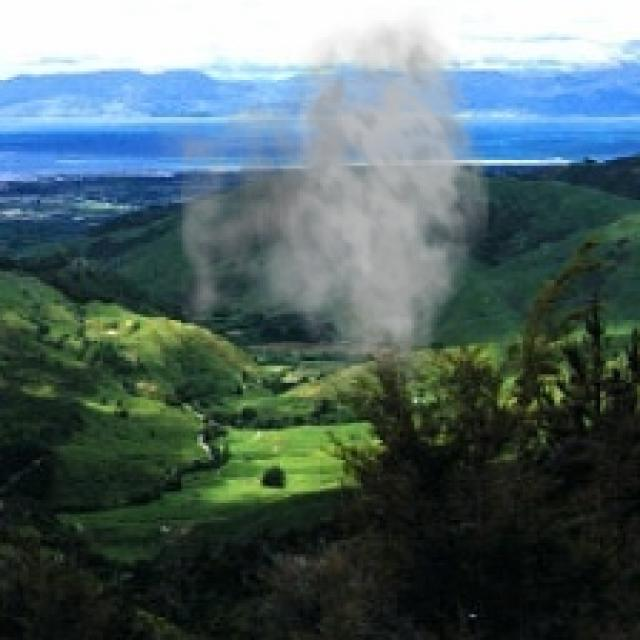smoke: (146, 6, 491, 403)
